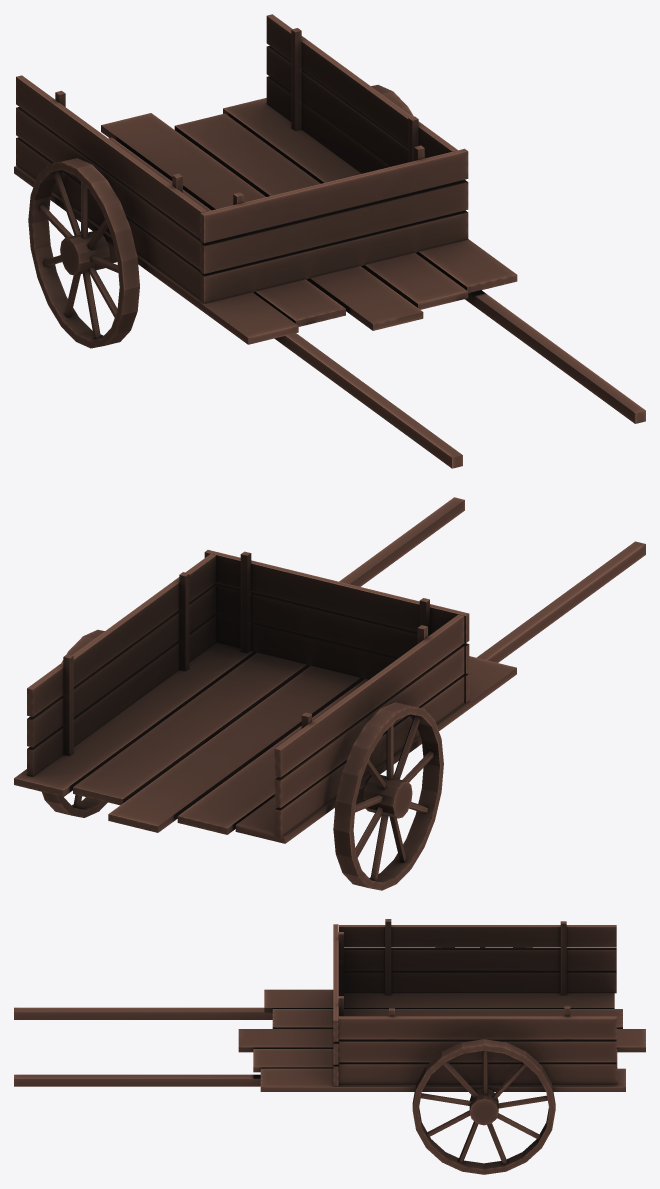
Rendered from Telega_1.FBX.
3 views of the same model, one above another, from view 1: azimuth 30°, elevation 25°; view 2: azimuth 150°, elevation 25°; view 3: azimuth 270°, elevation 25° (orthographic). The views are drawn at different scales.
Parts seen in each view (by area): view 1: Telega_1; view 2: Telega_1; view 3: Telega_1.
Part boxes in pixels (x1=…): Telega_1: x1=14, y1=14, x2=645, y2=468; Telega_1: x1=14, y1=497, x2=645, y2=890; Telega_1: x1=14, y1=919, x2=645, y2=1174.
Bounding box in the file's own units: 60.08 × 35.49 × 133.
